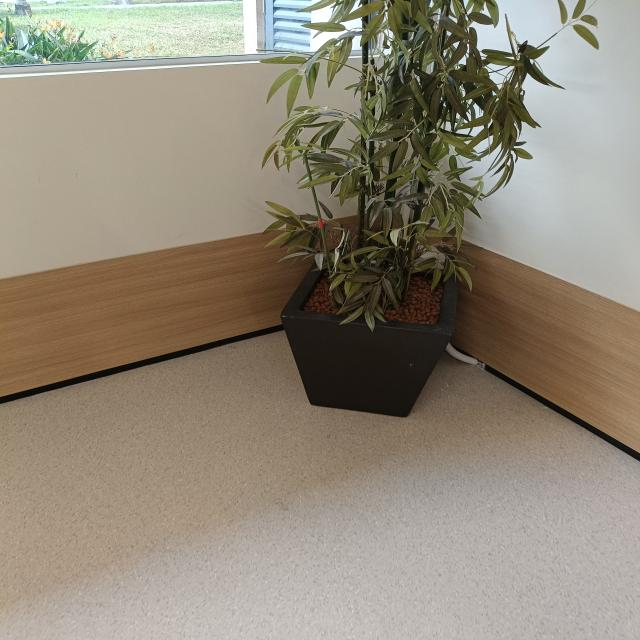Pot: (277, 259, 457, 418)
